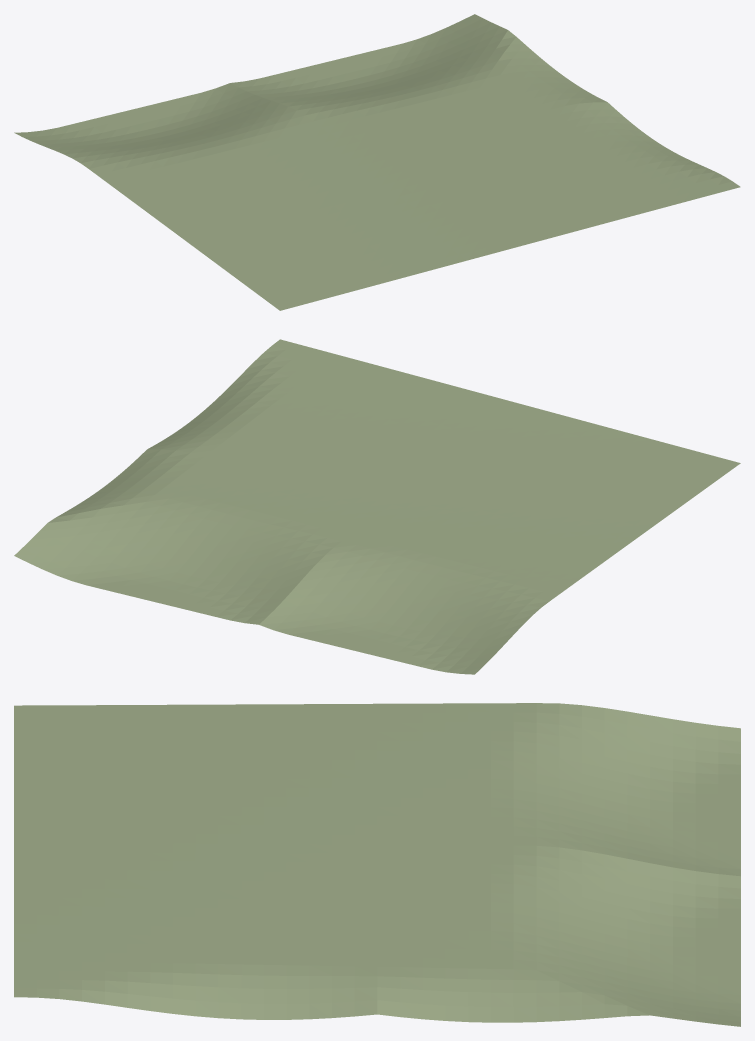
The model's file is gardens-5-7.glb.
3 renders of one model, top to bottom at view 1: azimuth 30°, elevation 25°; view 2: azimuth 150°, elevation 25°; view 3: azimuth 270°, elevation 25°, orthographic. The views are drawn at different scales.
Parts seen in each view (by area): view 1: gardens-5-7; view 2: gardens-5-7; view 3: gardens-5-7.
Part boxes in pixels (<box>): gardens-5-7: <box>14,14,740,310</box>; gardens-5-7: <box>14,339,740,674</box>; gardens-5-7: <box>14,703,740,1026</box>.
Bounding box in the file's own units: 256 × 17.84 × 256.
